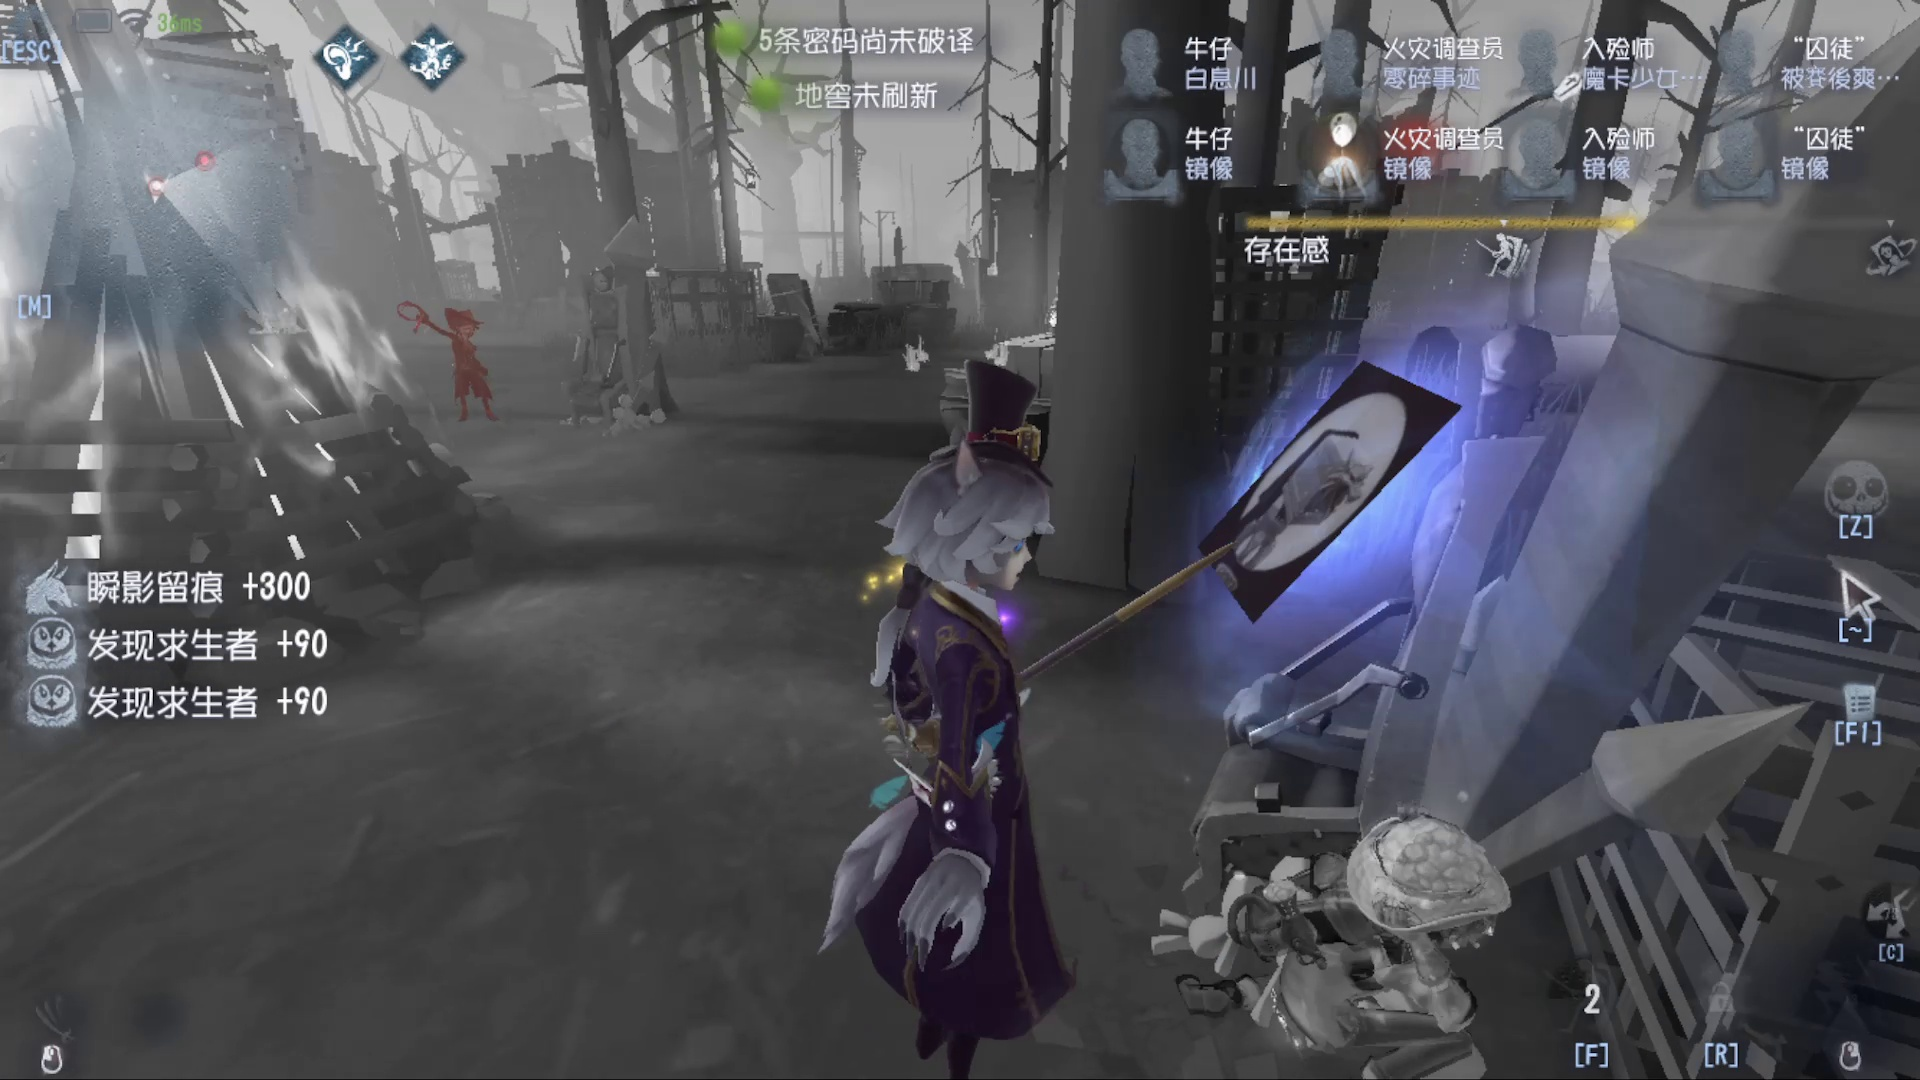木板: (760, 262, 832, 353)
求生者: (406, 290, 516, 430)
狂欢之椅: (556, 202, 669, 448)
